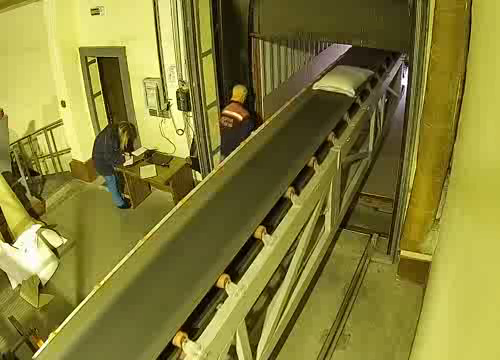bag: (310, 62, 376, 99)
